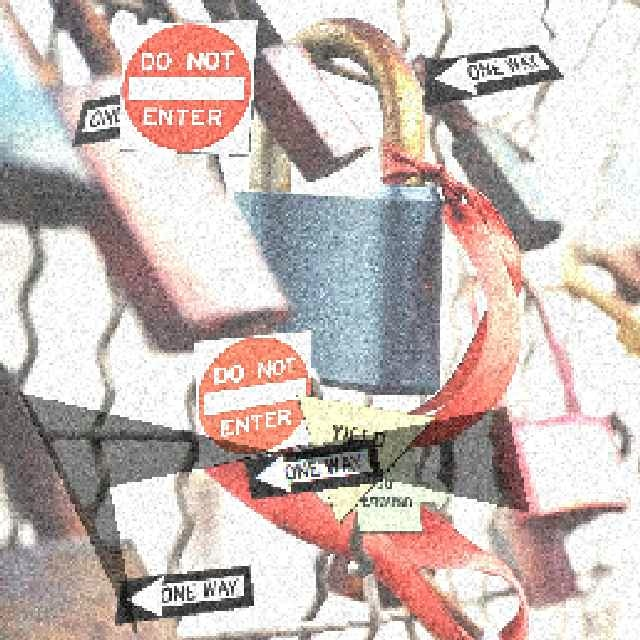DO_NOT_ENTER: (117, 17, 257, 154), (191, 328, 311, 468)
GO_AROUND: (311, 445, 451, 531)
ONE_WAY_ left: (423, 42, 563, 106), (242, 436, 382, 498), (112, 563, 252, 623)
ONE_WAY_ right: (69, 76, 209, 145)
YIELD: (294, 392, 434, 524)
